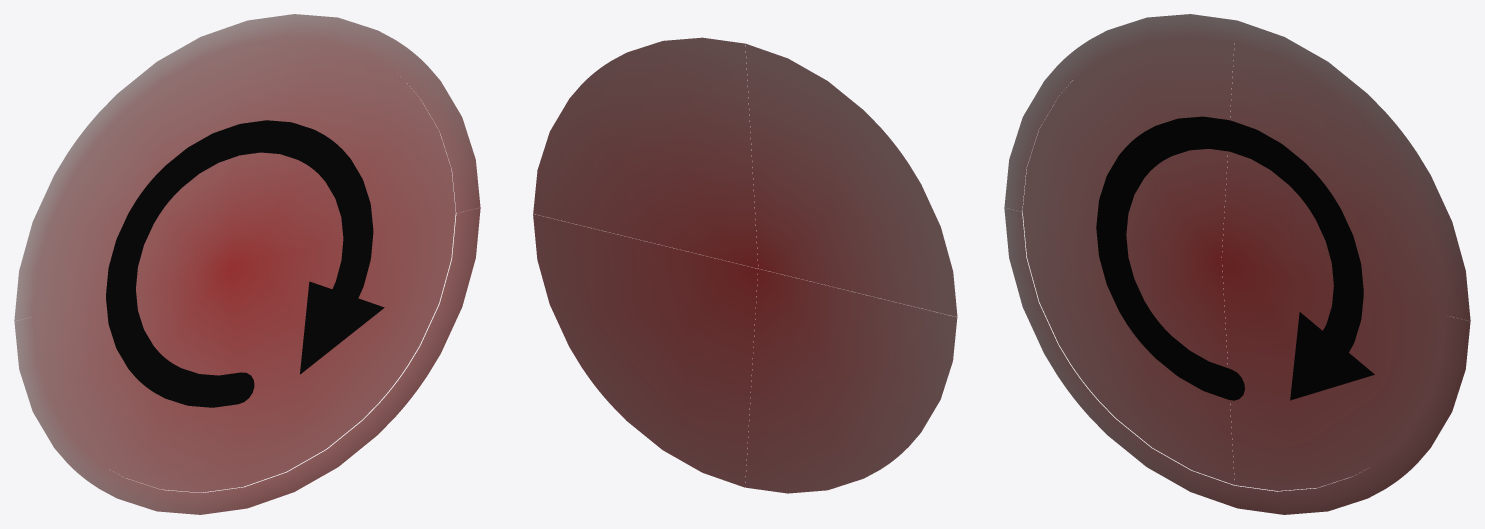
File: refresh.glb
The picture shows the model from 3 angles, left to right: view 1: azimuth 30°, elevation 25°; view 2: azimuth 150°, elevation 25°; view 3: azimuth 330°, elevation 25°; orthographic projection.
Bounding box in the file's own units: 288 × 288 × 0.7.
